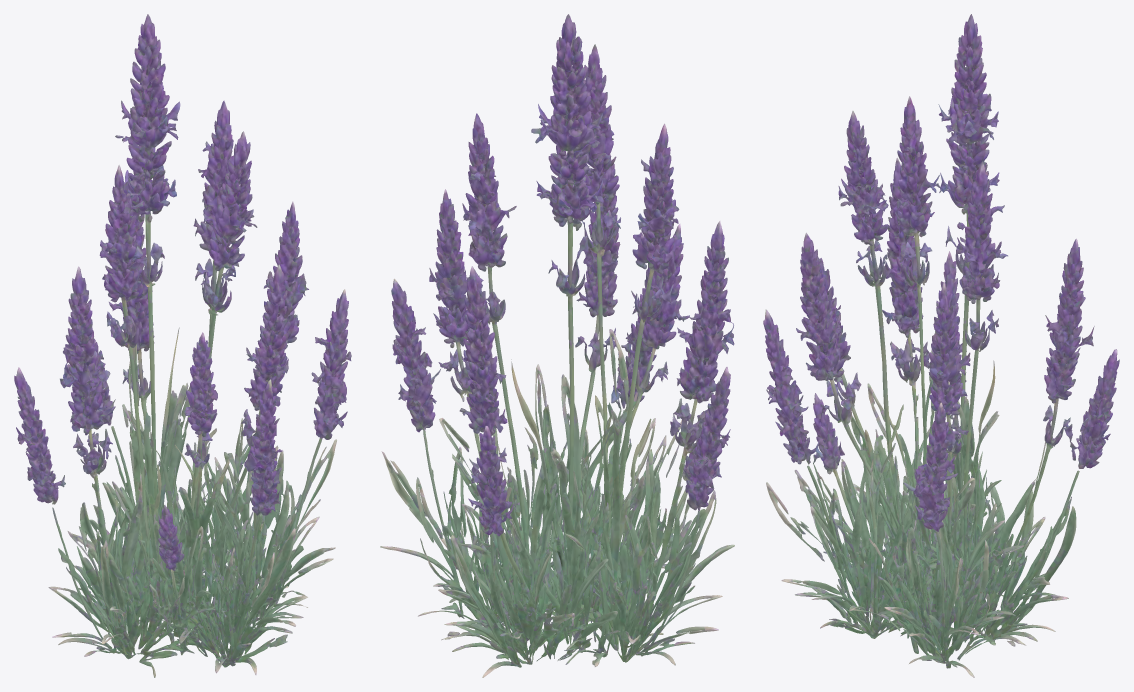
Rendered from Meshy_AI_flower_cluster_b_0823021113_image-to-3d-texture.glb.
3 views of the same model, side by side, from view 1: azimuth 30°, elevation 25°; view 2: azimuth 150°, elevation 25°; view 3: azimuth 270°, elevation 25° (orthographic). The views are drawn at different scales.
Size of the model in its own units: 1.04 by 1.89 by 1.
Materials: 1 (1 with a texture image).
